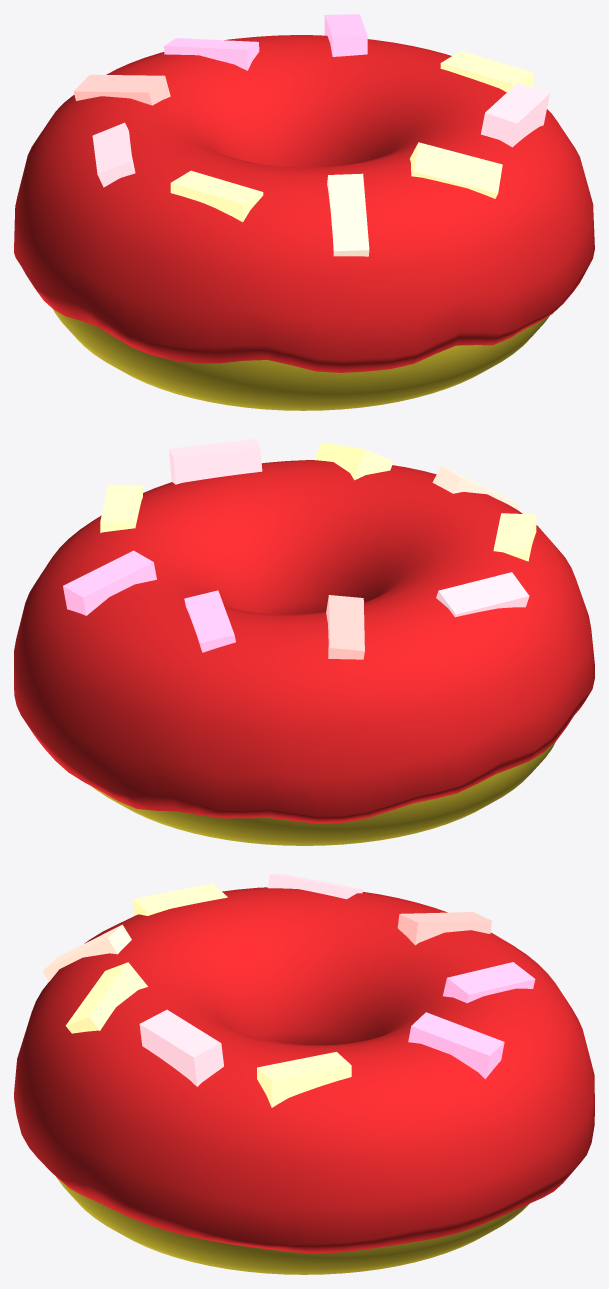
The model's file is doughnut.gltf.
The picture shows the model from 3 angles, top to bottom: view 1: azimuth 30°, elevation 25°; view 2: azimuth 150°, elevation 25°; view 3: azimuth 270°, elevation 25°; orthographic projection.
Parts seen in each view (by area): view 1: Torus.001_3, Torus_2, Cube.008, Cube.006, Cube.001, Cube.009, Cube.004, Cube.005, Cube.002, Cube.007, Cube.003; view 2: Torus.001_3, Torus_2, Cube.001, Cube.003, Cube.002, Cube.004, Cube.007, Cube.005, Cube.009, Cube.008, Cube.006; view 3: Torus.001_3, Torus_2, Cube.001, Cube.003, Cube.005, Cube.008, Cube.007, Cube.004, Cube.009, Cube.006, Cube.002.
Part boxes in pixels (x1=…): Torus.001_3: x1=14, y1=35, x2=594, y2=372; Torus_2: x1=53, y1=309, x2=549, y2=410; Cube.008: x1=410, y1=142, x2=502, y2=198; Cube.006: x1=327, y1=173, x2=369, y2=256; Cube.001: x1=481, y1=82, x2=549, y2=147; Cube.009: x1=170, y1=170, x2=263, y2=222; Cube.004: x1=73, y1=74, x2=170, y2=105; Cube.005: x1=440, y1=51, x2=532, y2=92; Cube.002: x1=92, y1=122, x2=135, y2=187; Cube.007: x1=164, y1=38, x2=259, y2=70; Cube.003: x1=324, y1=14, x2=367, y2=56; Torus.001_3: x1=14, y1=460, x2=594, y2=823; Torus_2: x1=93, y1=741, x2=555, y2=845; Cube.001: x1=169, y1=439, x2=262, y2=484; Cube.003: x1=63, y1=550, x2=156, y2=615; Cube.002: x1=436, y1=572, x2=529, y2=617; Cube.004: x1=326, y1=595, x2=364, y2=659; Cube.007: x1=184, y1=590, x2=235, y2=652; Cube.005: x1=100, y1=484, x2=142, y2=532; Cube.009: x1=493, y1=513, x2=536, y2=561; Cube.008: x1=315, y1=442, x2=393, y2=480; Cube.006: x1=432, y1=466, x2=520, y2=510; Torus.001_3: x1=14, y1=887, x2=594, y2=1253; Torus_2: x1=56, y1=1177, x2=528, y2=1274; Cube.001: x1=139, y1=1009, x2=223, y2=1086; Cube.003: x1=408, y1=1012, x2=504, y2=1079; Cube.005: x1=257, y1=1052, x2=351, y2=1107; Cube.008: x1=65, y1=962, x2=147, y2=1033; Cube.007: x1=443, y1=962, x2=535, y2=1003; Cube.004: x1=397, y1=912, x2=491, y2=945; Cube.009: x1=133, y1=883, x2=227, y2=916; Cube.006: x1=42, y1=924, x2=131, y2=981; Cube.002: x1=267, y1=874, x2=363, y2=899.
Size of the model in its own units: 3.29 by 1.53 by 3.3.
